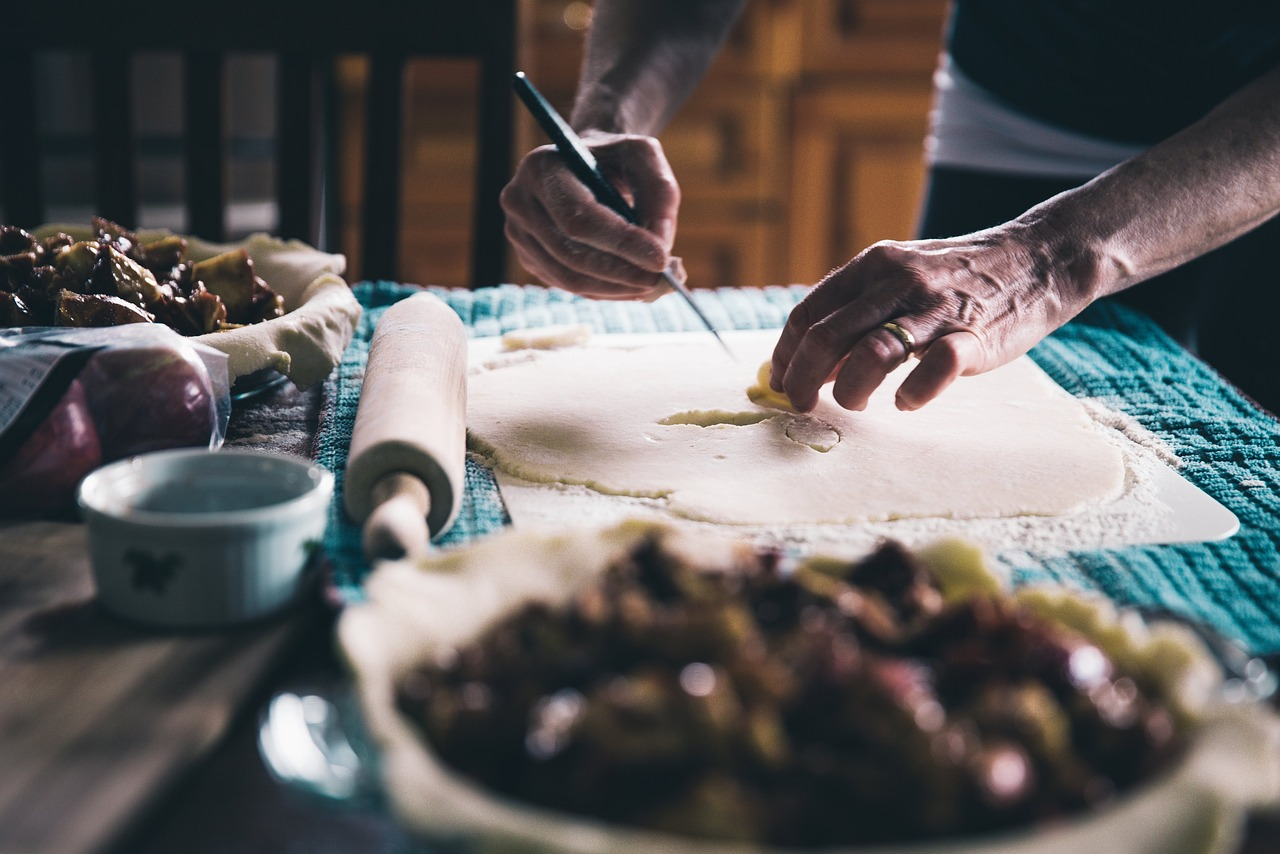knife: (496, 61, 762, 389)
